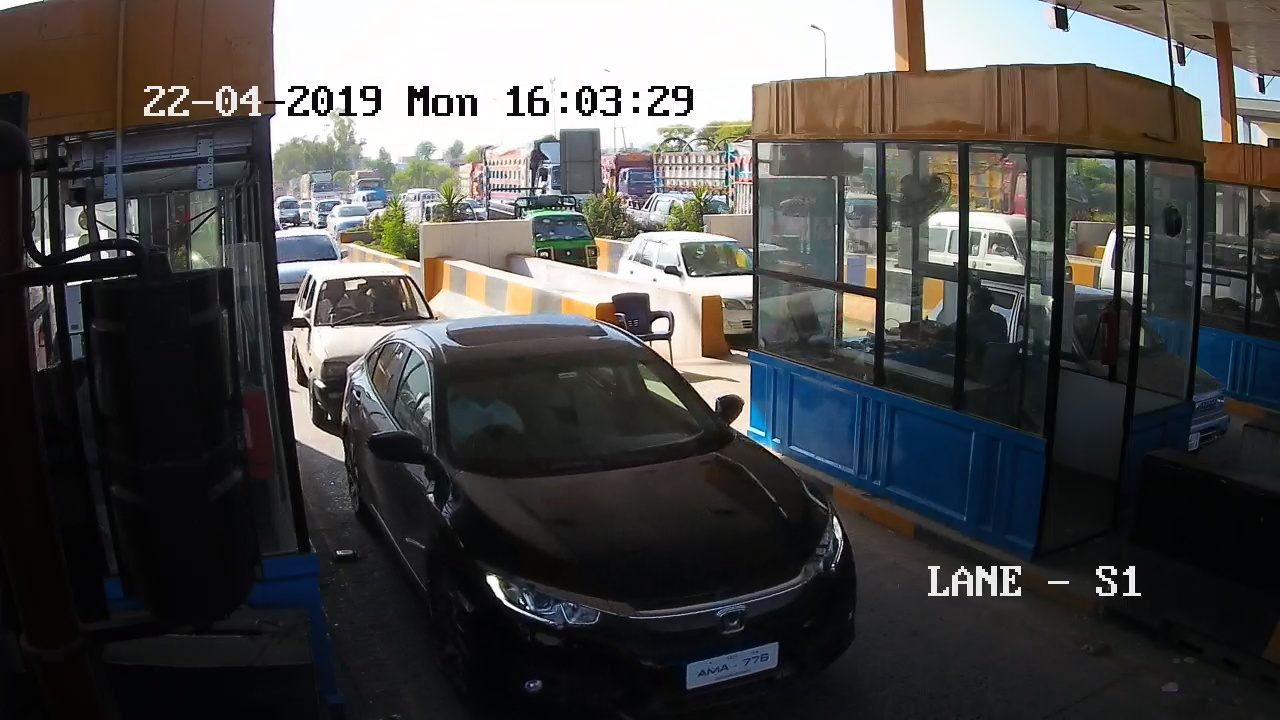Number Plate (Car): (692, 650, 780, 683)
